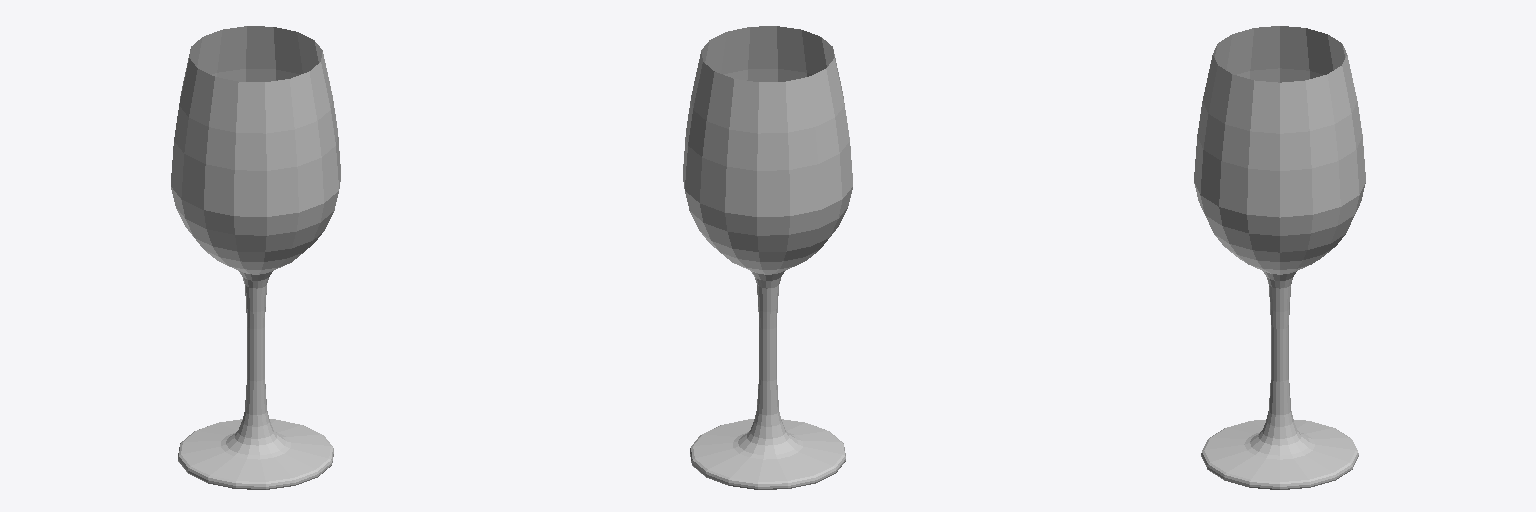
File: glass2_removevertices.obj
3 renders of one model, left to right at view 1: azimuth 30°, elevation 25°; view 2: azimuth 150°, elevation 25°; view 3: azimuth 270°, elevation 25°, orthographic.
Visible parts, largest first — view 1: Cup; view 2: Cup; view 3: Cup.
Boxes of the visible parts, <box> form: Cup: <box>171,26,340,489</box>; Cup: <box>683,26,852,489</box>; Cup: <box>1194,26,1365,489</box>.
Size of the model in its own units: 3.39 by 8.76 by 3.39.